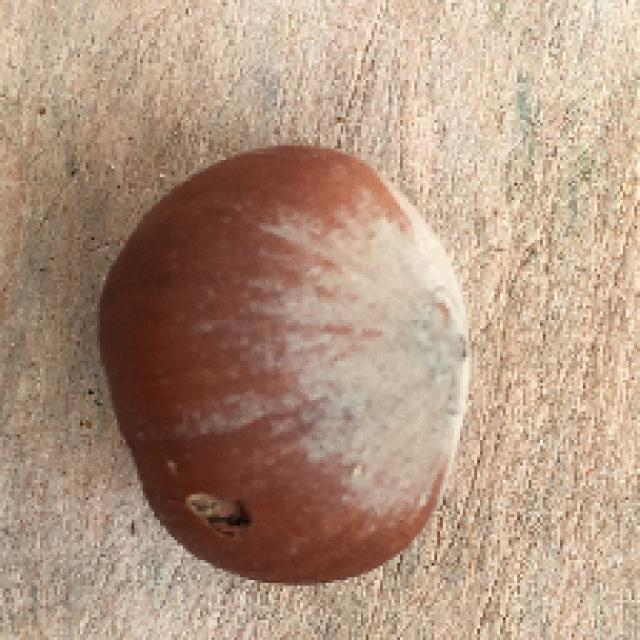damagedHazelnut: (98, 138, 479, 593)
